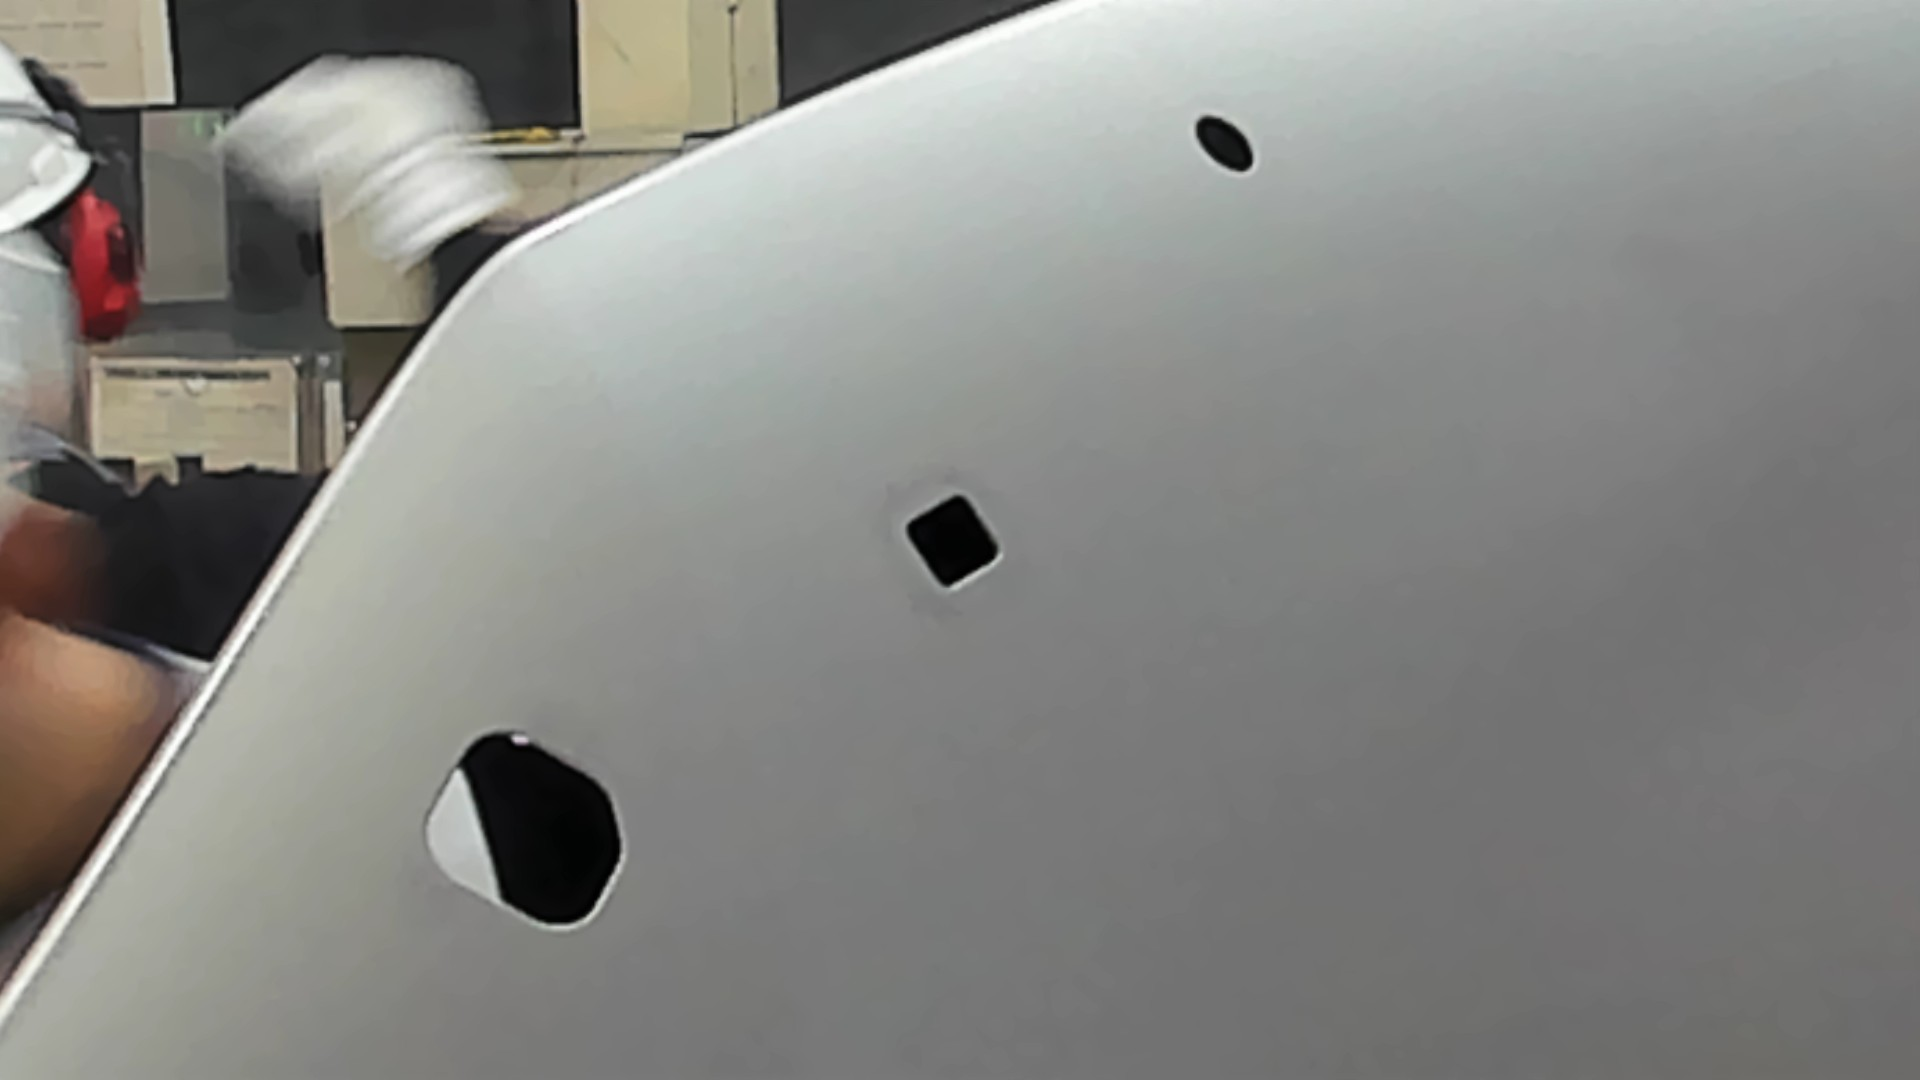Agujero: (903, 492, 1004, 589), (1192, 113, 1253, 171)
Agujerote: (419, 727, 626, 932)
